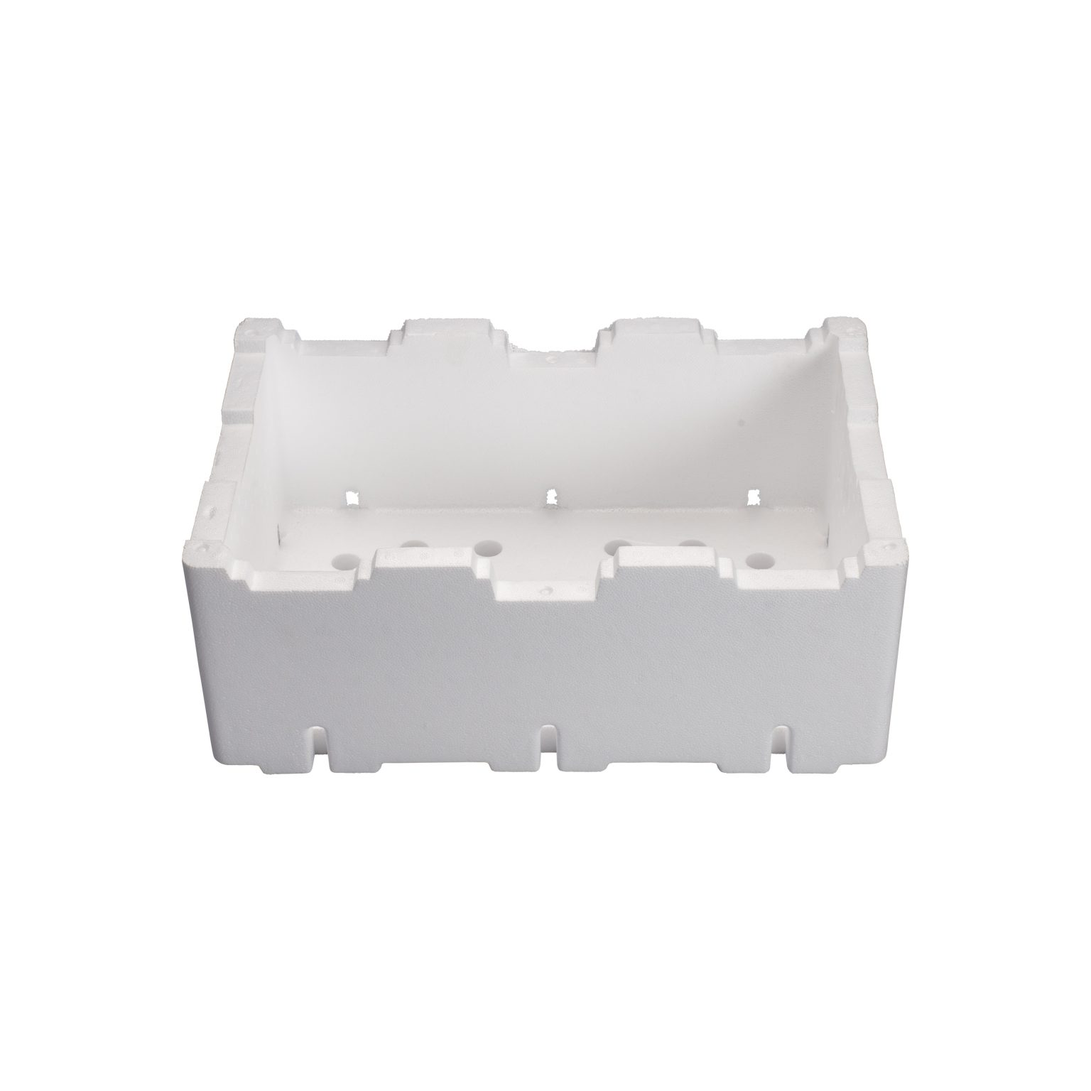泡沫箱: (183, 317, 907, 774)
